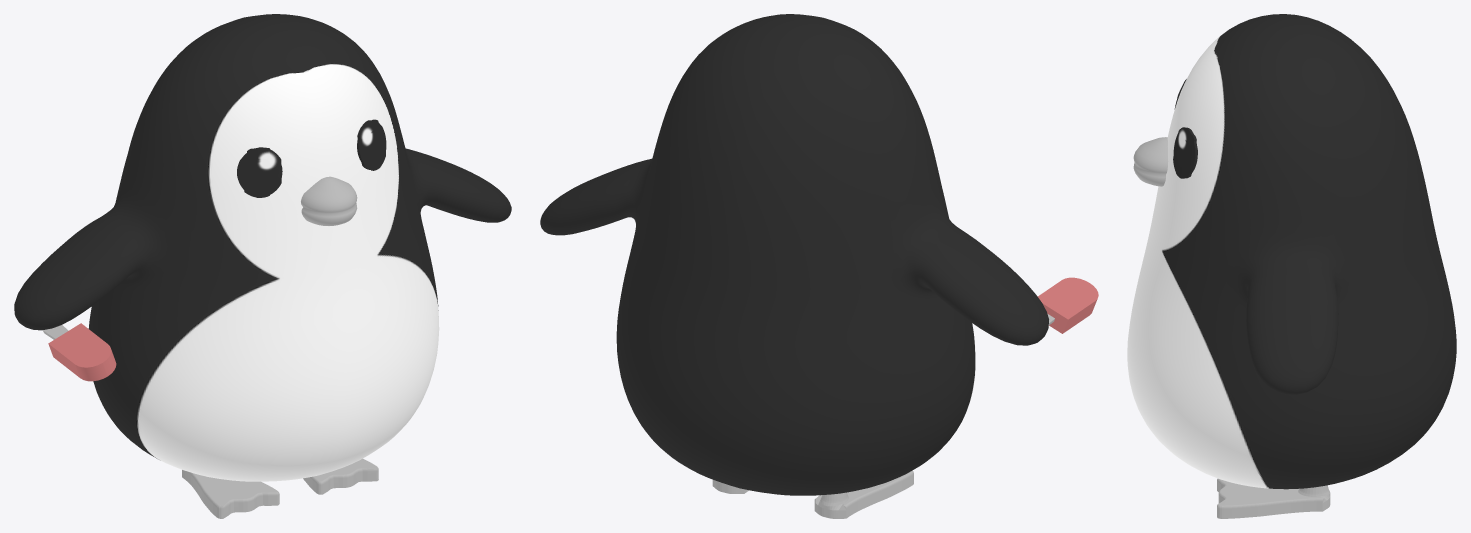
File: popsicles_penguim.glb
3 views of the same model, side by side, from view 1: azimuth 30°, elevation 25°; view 2: azimuth 150°, elevation 25°; view 3: azimuth 270°, elevation 25° (orthographic). The views are drawn at different scales.
Visible parts, largest first — view 1: Object_5, Object_7, Object_3, Object_2; view 2: Object_5, Object_7, Object_2; view 3: Object_5, Object_7, Object_3.
Boxes of the visible parts, box(x1,y1,x2,y2) form: Object_5: box(14, 14, 511, 481); Object_7: box(182, 176, 378, 518); Object_3: box(237, 119, 386, 197); Object_2: box(48, 323, 116, 381); Object_5: box(540, 14, 1048, 495); Object_7: box(712, 470, 913, 518); Object_2: box(1038, 277, 1098, 333); Object_5: box(1127, 14, 1456, 489); Object_7: box(1133, 137, 1330, 518); Object_3: box(1173, 79, 1197, 178).
Bounding box in the file's own units: 0.7334 × 0.6512 × 0.4291.
Materials: 5 (2 with a texture image).
